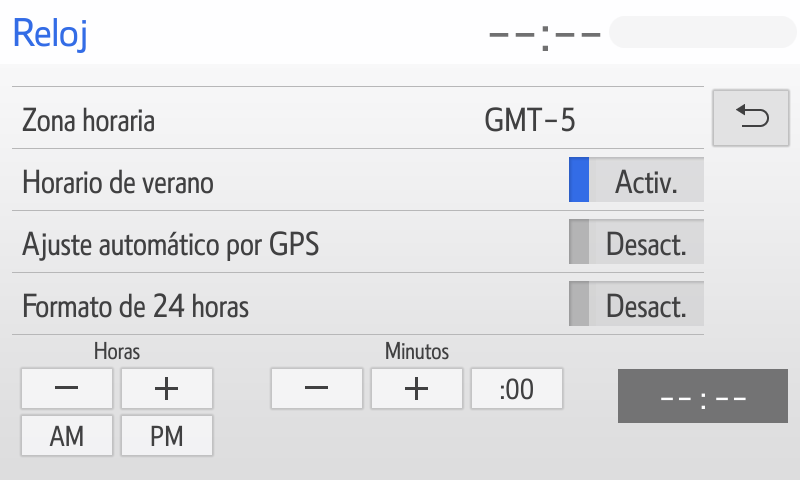touchPart: (11, 144, 705, 220), (9, 79, 707, 154), (10, 268, 703, 339), (8, 207, 710, 277), (712, 85, 791, 156), (115, 410, 219, 459), (267, 366, 367, 412), (368, 365, 466, 410), (21, 414, 116, 457), (18, 367, 113, 409), (118, 368, 217, 406)
untouchPart: (468, 12, 799, 54), (613, 367, 786, 425), (9, 10, 101, 54)
